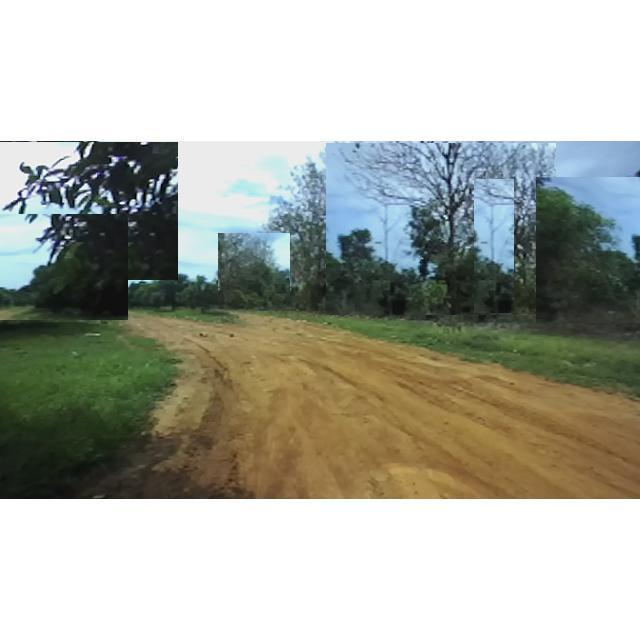tree: (326, 143, 556, 315), (0, 142, 178, 280), (313, 142, 417, 314), (536, 177, 640, 323), (265, 156, 361, 314), (0, 214, 128, 320), (218, 233, 290, 309), (474, 179, 514, 313), (502, 220, 546, 310), (152, 262, 188, 314)
